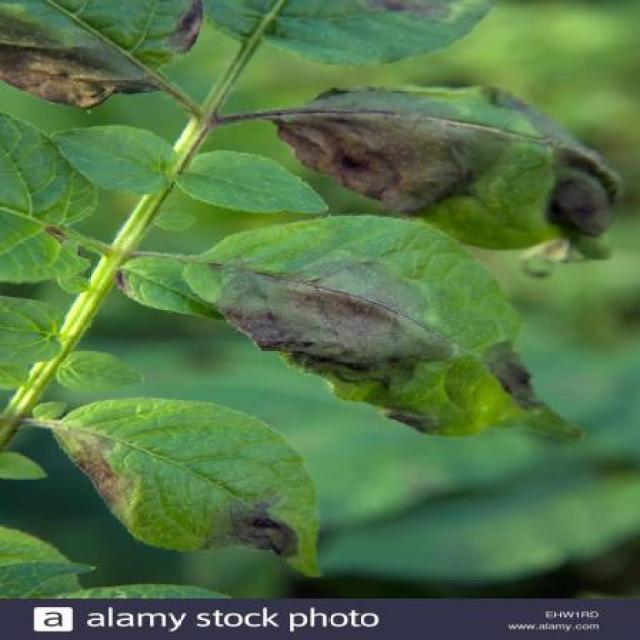Late Blight: (175, 212, 592, 447), (274, 76, 629, 270), (42, 393, 341, 581)
